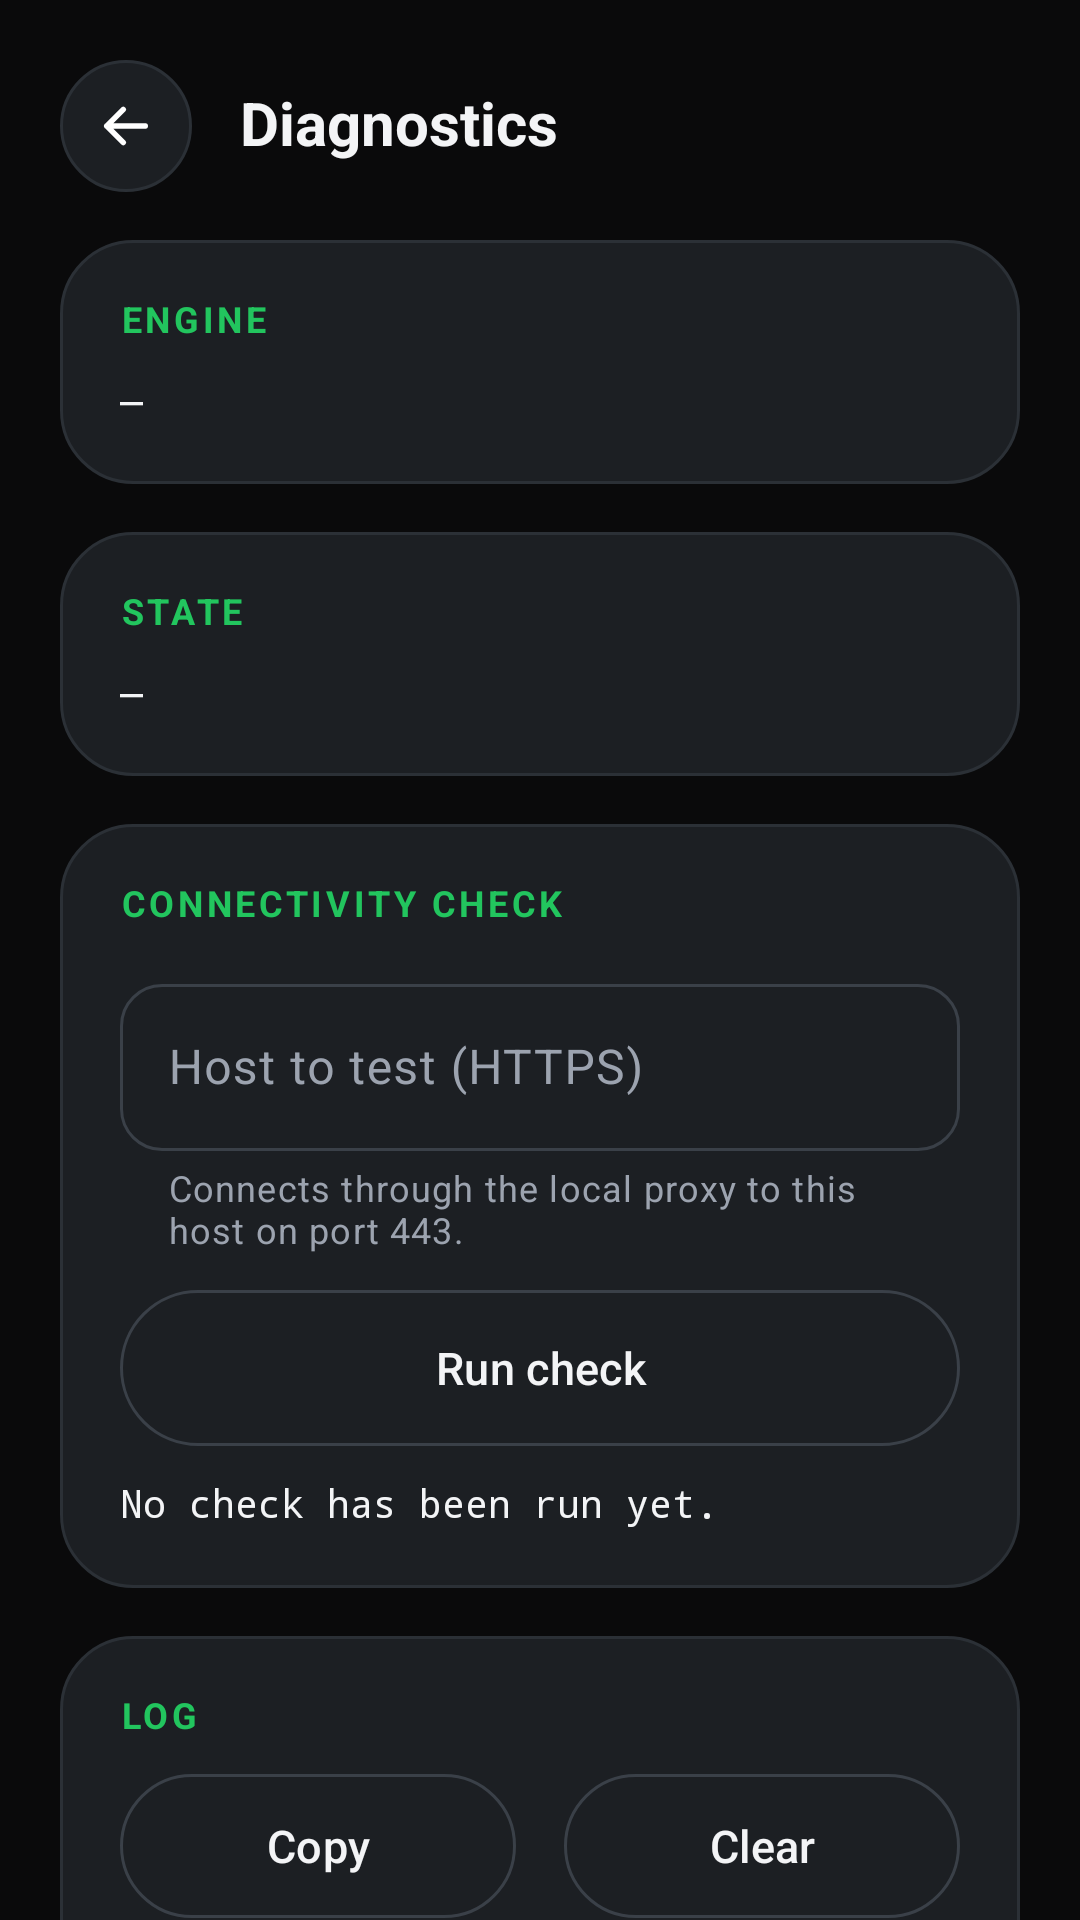

Named icons in this screenshot (1080×1920) and their centers, (x,y):
Back: (126,126)
